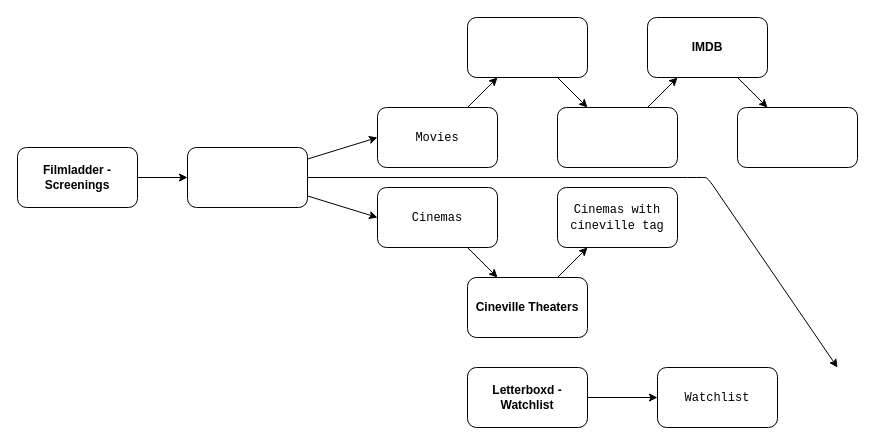
Some shapes in this 875 by 445 pixel diagram are drawn without their labels. Each missing label, with the box of its shape:
Filmladder - Movie pages: (466, 16, 588, 78)
Movies with IMDB url: (556, 106, 678, 168)
Movies with rich metadata: (736, 106, 858, 168)
Screenings: (186, 146, 308, 208)
